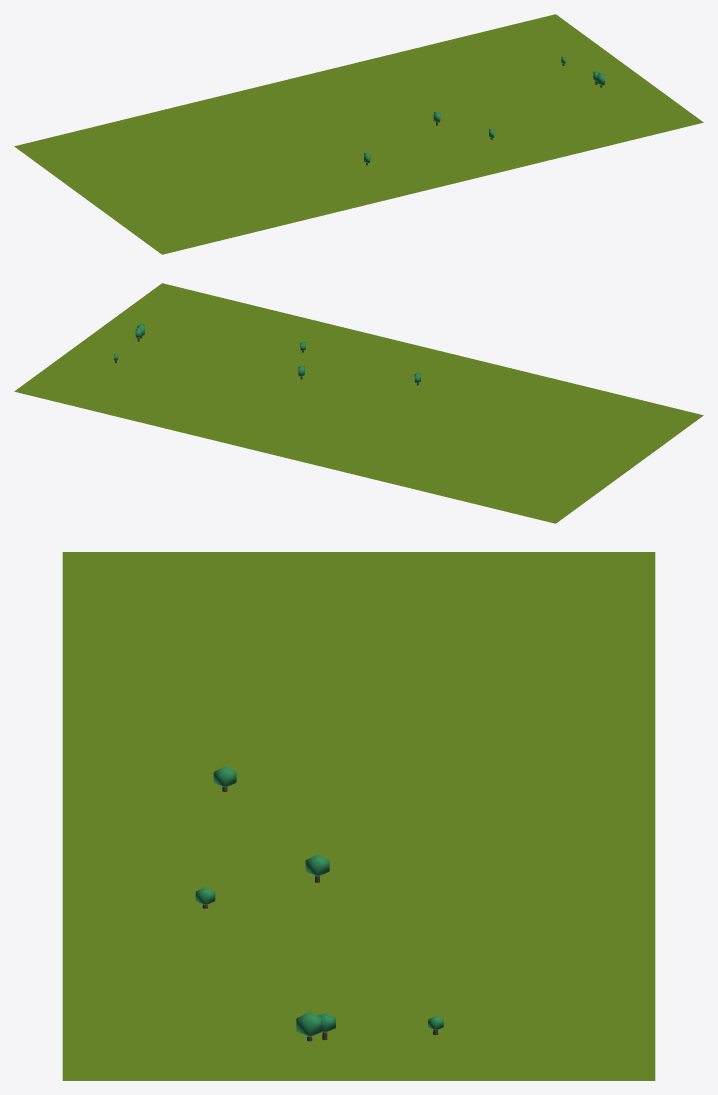
Rendered from nature_left3.glb.
3 renders of one model, top to bottom at view 1: azimuth 30°, elevation 25°; view 2: azimuth 150°, elevation 25°; view 3: azimuth 270°, elevation 25°, orthographic. The views are drawn at different scales.
Bounding box in the file's own units: 57 × 1.46 × 27.
